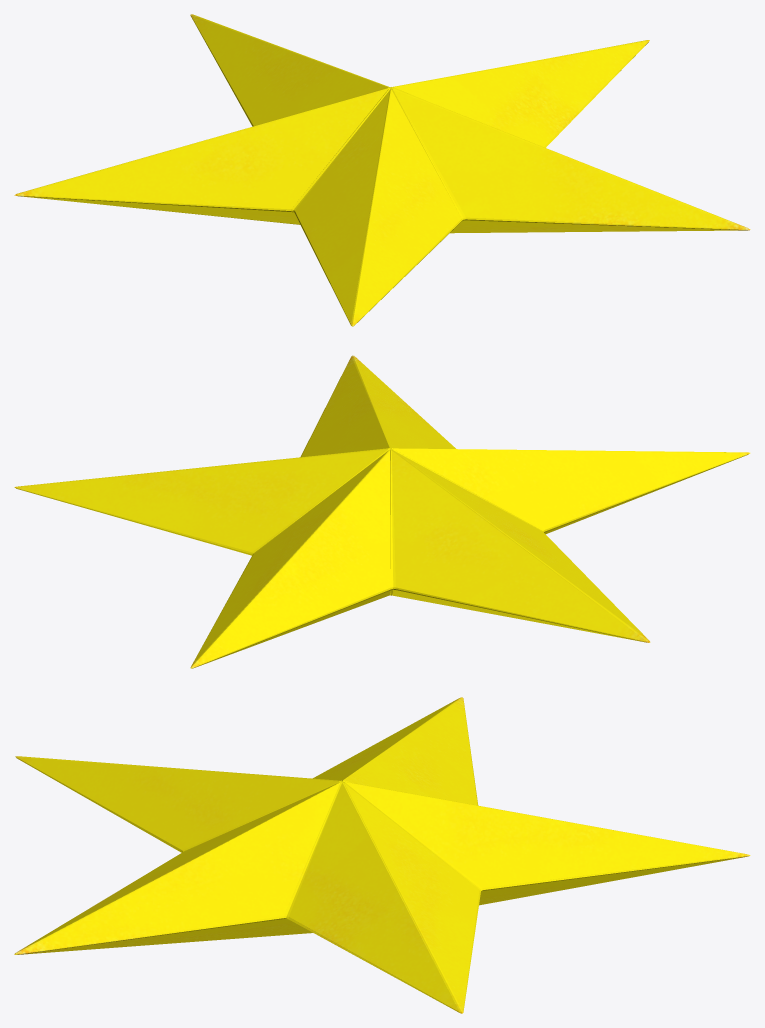
Rendered from Star.fbx.
The picture shows the model from 3 angles, top to bottom: view 1: azimuth 30°, elevation 25°; view 2: azimuth 150°, elevation 25°; view 3: azimuth 270°, elevation 25°; orthographic projection. The views are drawn at different scales.
Parts seen in each view (by area): view 1: node_id3; view 2: node_id3; view 3: node_id3.
Boxes of the visible parts, bbox=[...] form: node_id3: bbox=[14, 14, 750, 326]; node_id3: bbox=[14, 355, 750, 668]; node_id3: bbox=[14, 697, 750, 1013].
Size of the model in its own units: 0.512 by 0.1122 by 0.5037.
1 material, 1 textured.
